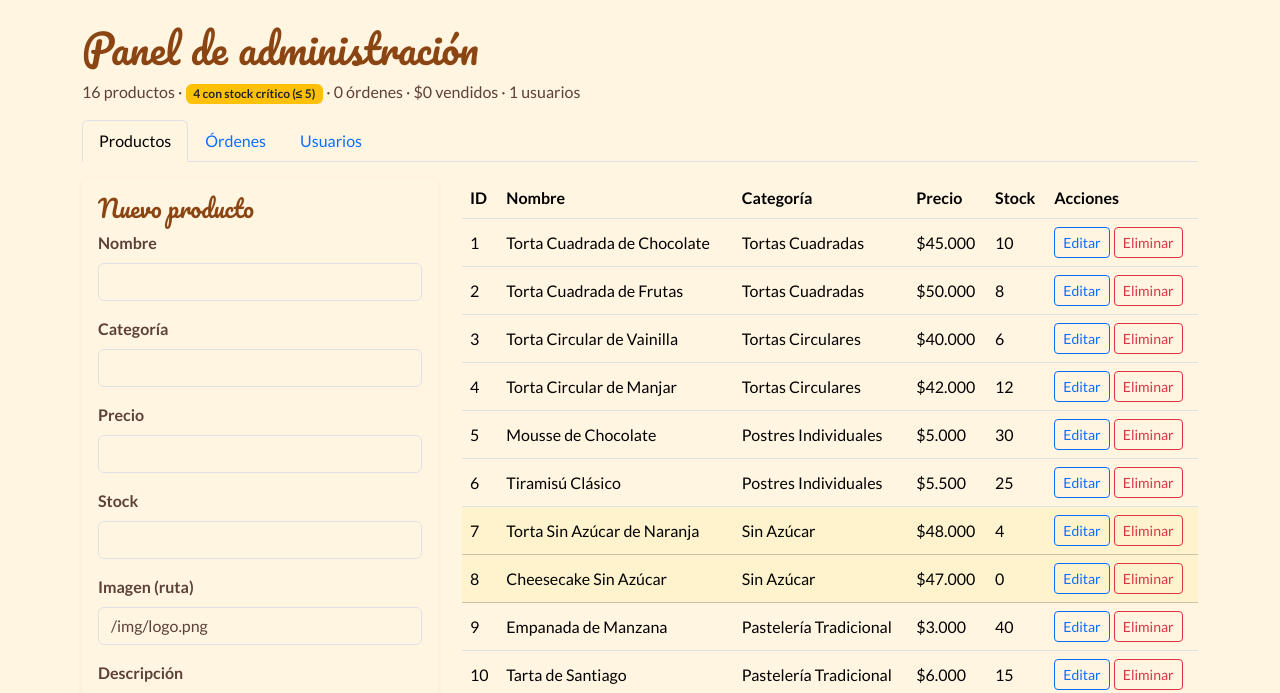
<Admin /> pestañas de órdenes y usuarios › Órdenes: sin compras muestra un aviso
This screenshot has width=1280, height=693.
Click the tab "Órdenes": (236, 141) [188,120,283,162]
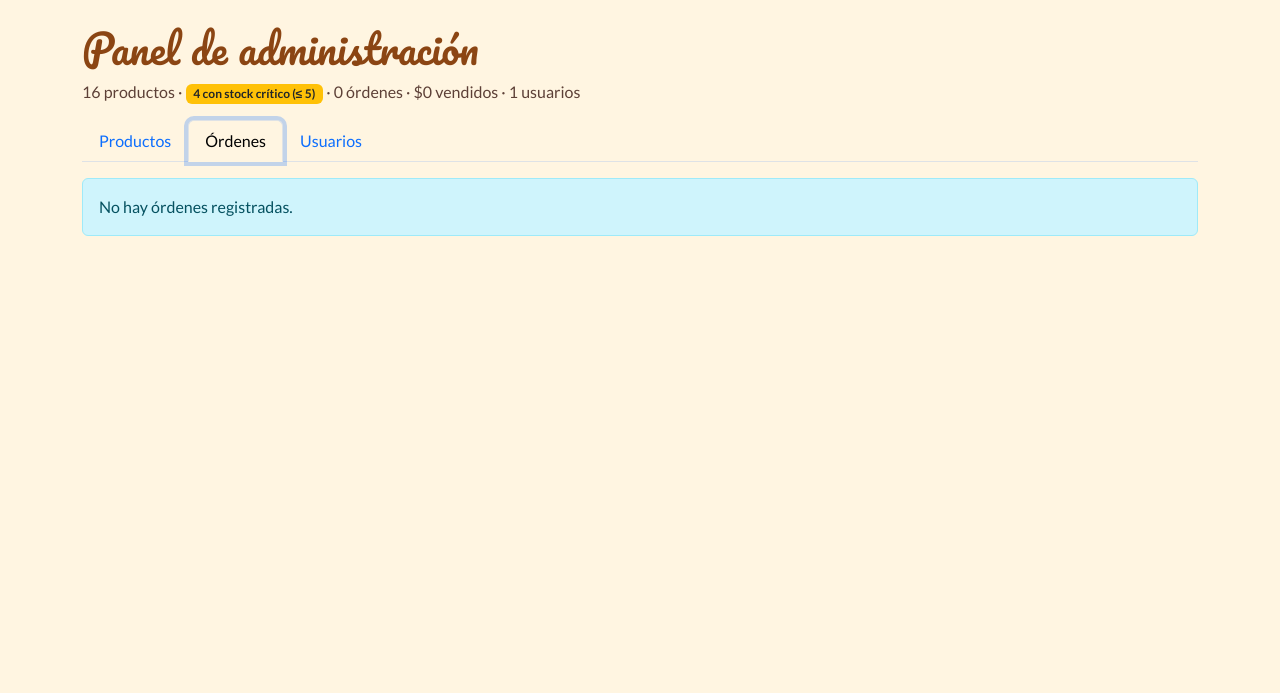
Check: the text "No hay órdenes registradas." is shown, box [82,178,1198,236]
